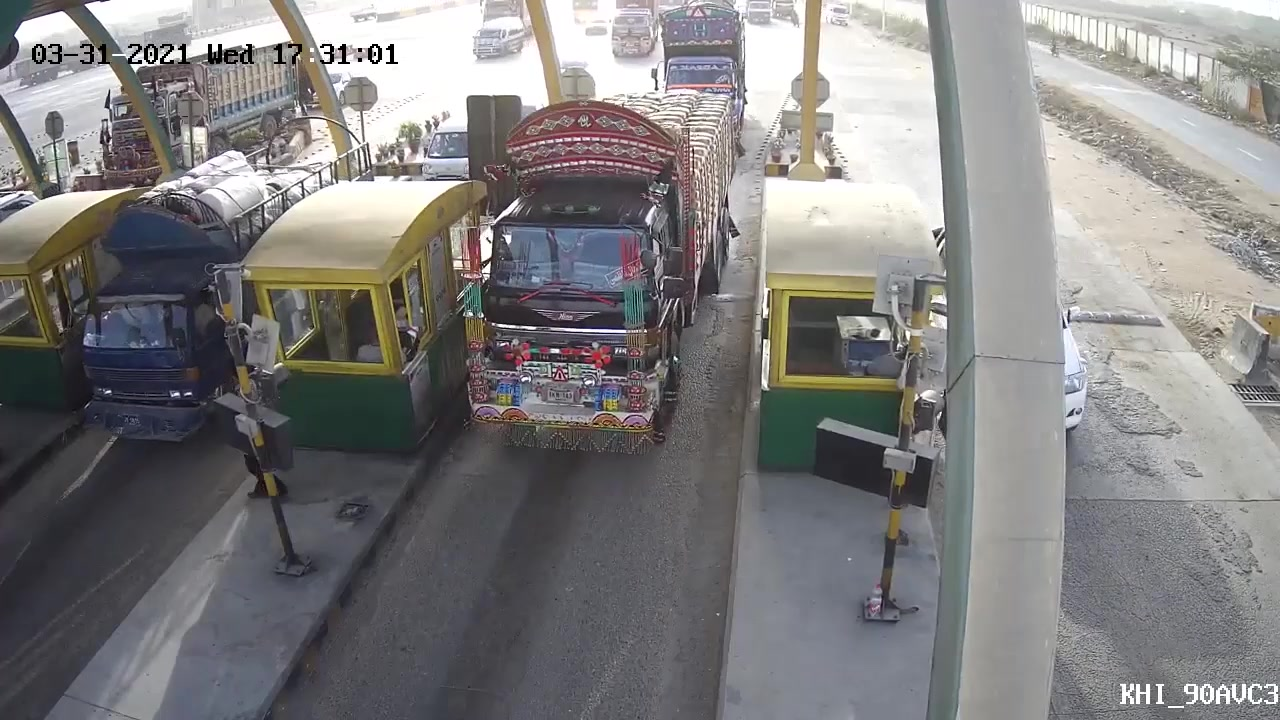F5: (457, 81, 743, 461)
